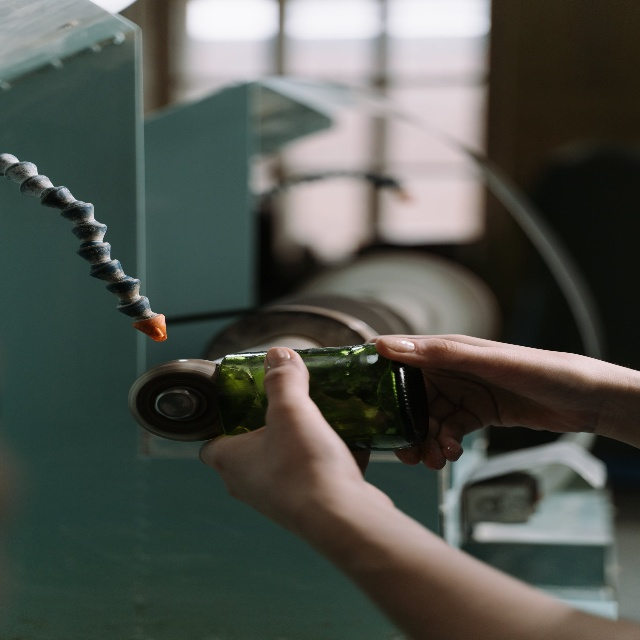Sin_guantes: (199, 346, 395, 550), (367, 333, 605, 473)
